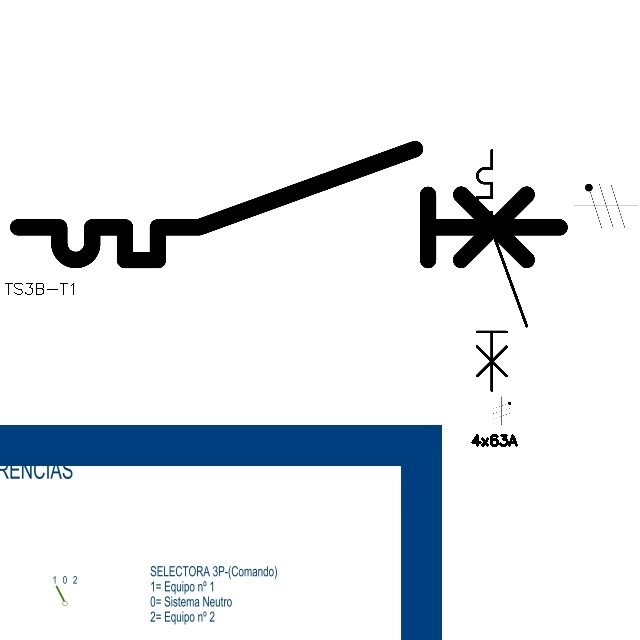interruptor_termomagnetico: (4, 135, 574, 274), (471, 144, 532, 396)
